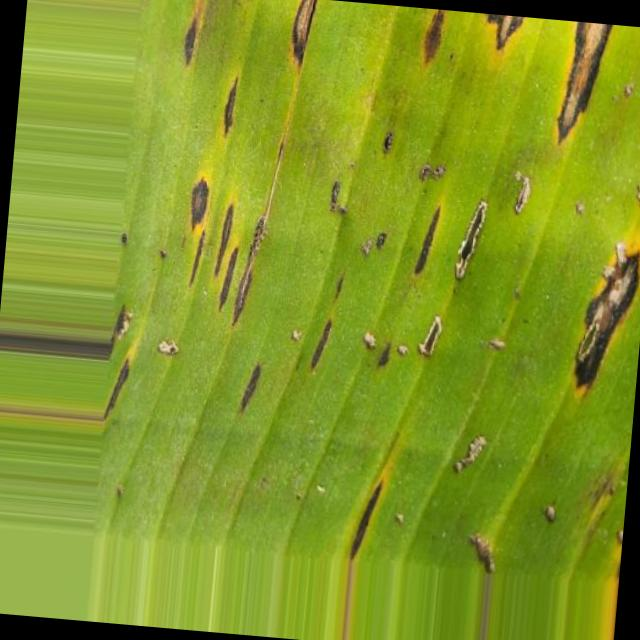Banana_Yellow_Sigatoka: (165, 174, 640, 407), (172, 0, 618, 150)
